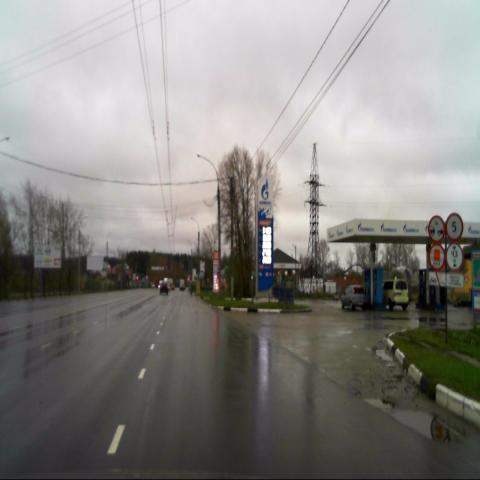3_13: (446, 243, 462, 270)
3_16: (428, 213, 444, 245)
3_32: (429, 241, 445, 269)
